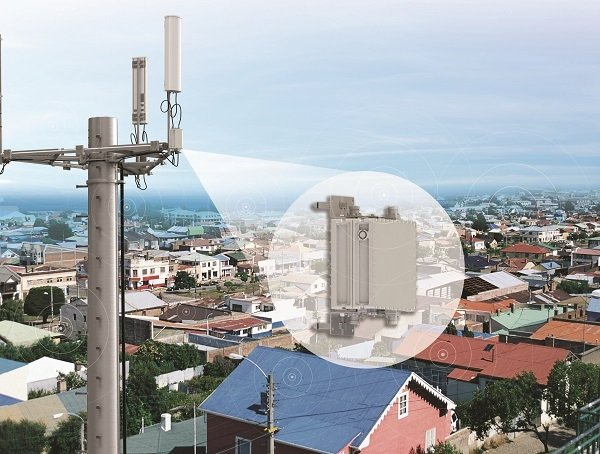sa: (154, 18, 193, 116), (120, 49, 153, 141)
